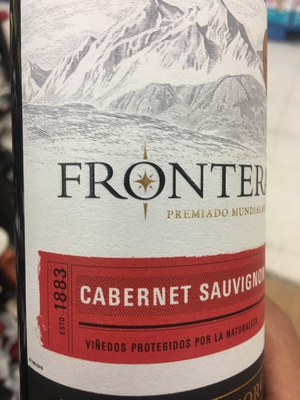frontera cabernet sauvignon: (10, 3, 270, 400)
